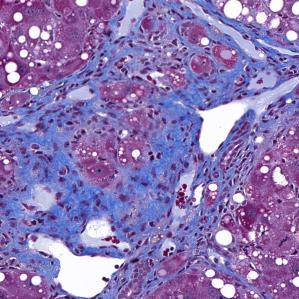fibrosis: (12, 83, 204, 233), (114, 8, 269, 106), (210, 112, 268, 221)
